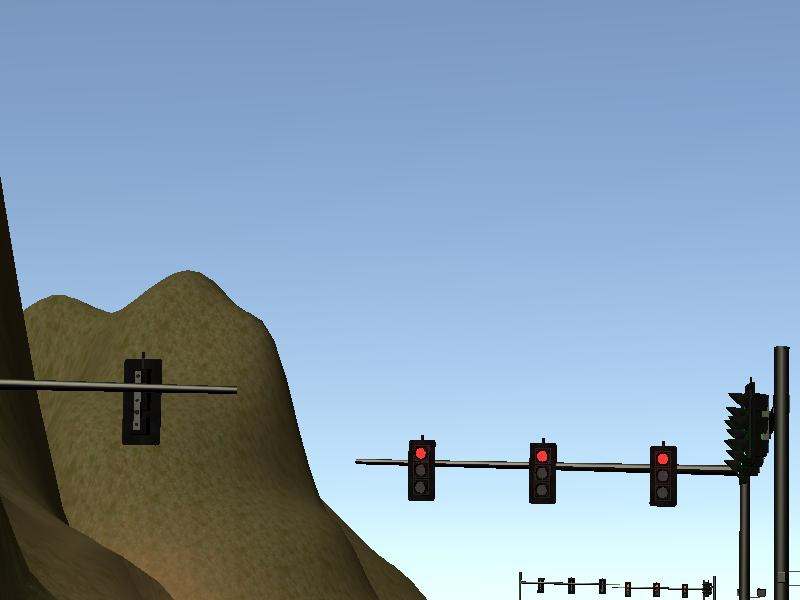red_light: (410, 440, 435, 498), (652, 447, 676, 506), (532, 445, 555, 502)
